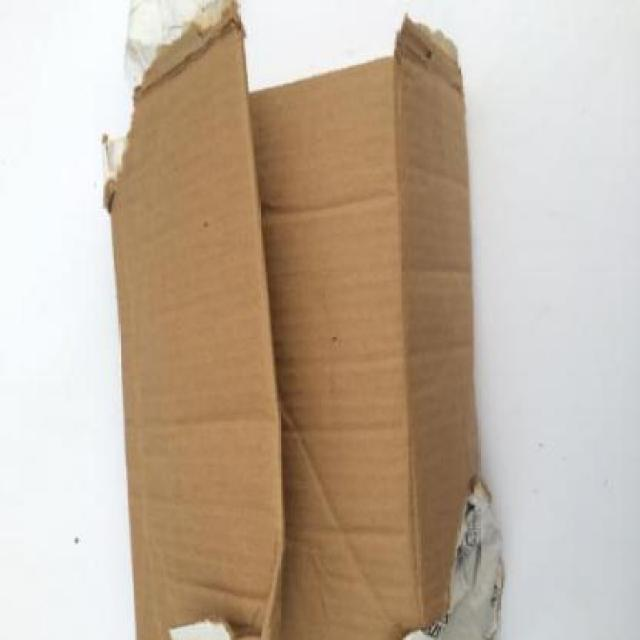box: (85, 0, 537, 640)
